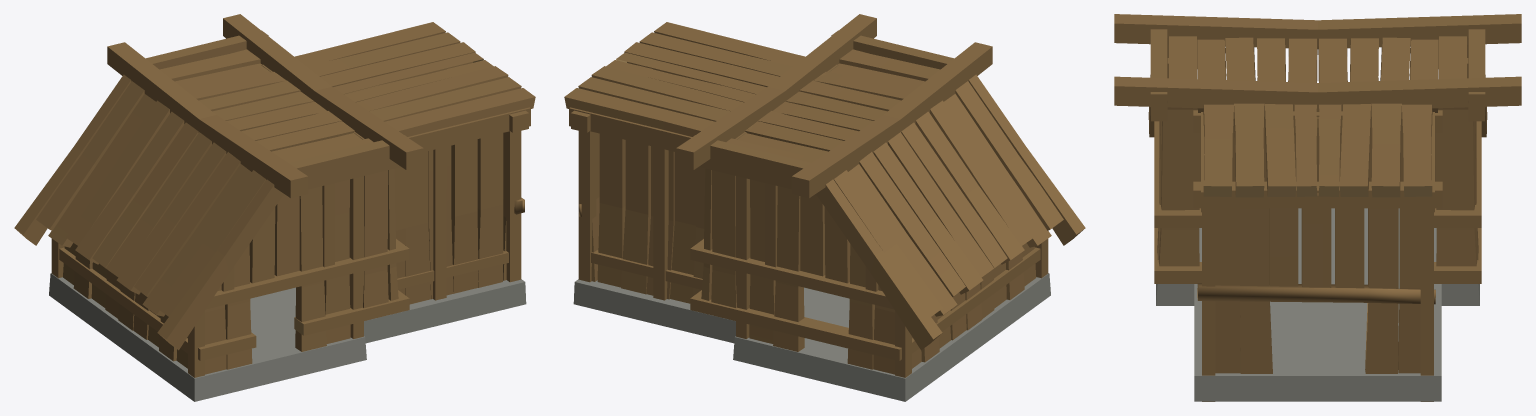
File: workhut3.fbx
3 views of the same model, side by side, from view 1: azimuth 30°, elevation 25°; view 2: azimuth 150°, elevation 25°; view 3: azimuth 270°, elevation 25° (orthographic). The views are drawn at different scales.
Parts seen in each view (by area): view 1: Houses_FirstAge_2_Level3; view 2: Houses_FirstAge_2_Level3; view 3: Houses_FirstAge_2_Level3.
Part boxes in pixels (<box>): Houses_FirstAge_2_Level3: <box>14,14,535,401</box>; Houses_FirstAge_2_Level3: <box>564,14,1085,401</box>; Houses_FirstAge_2_Level3: <box>1114,14,1521,401</box>.
Bounding box in the file's own units: 146 × 76.85 × 117.
